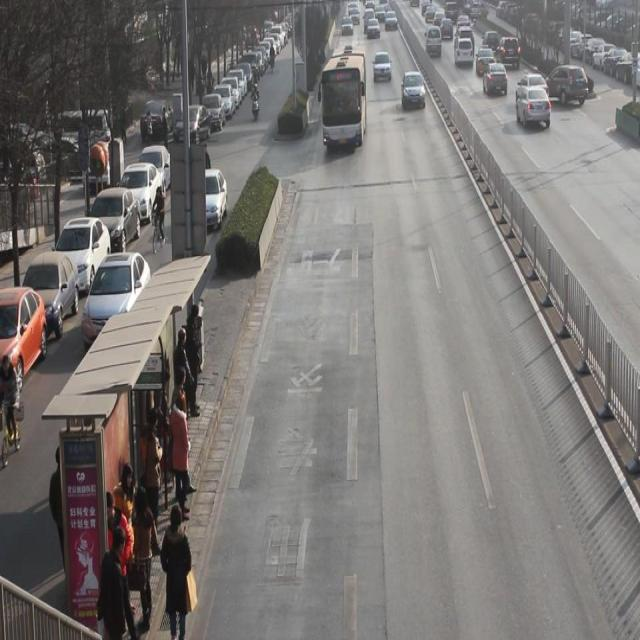car: (80, 250, 152, 341), (187, 164, 229, 227), (547, 63, 589, 106), (517, 86, 551, 127), (401, 70, 426, 108), (484, 61, 508, 94), (498, 34, 521, 64), (374, 49, 392, 81), (517, 72, 548, 90), (476, 46, 495, 71), (455, 38, 474, 62), (441, 16, 454, 39), (367, 15, 380, 38), (385, 8, 398, 31), (341, 15, 354, 36), (484, 29, 499, 47), (458, 24, 473, 38), (458, 12, 470, 24), (435, 10, 445, 22)
truck: (426, 24, 442, 53)
van: (321, 44, 367, 149)
